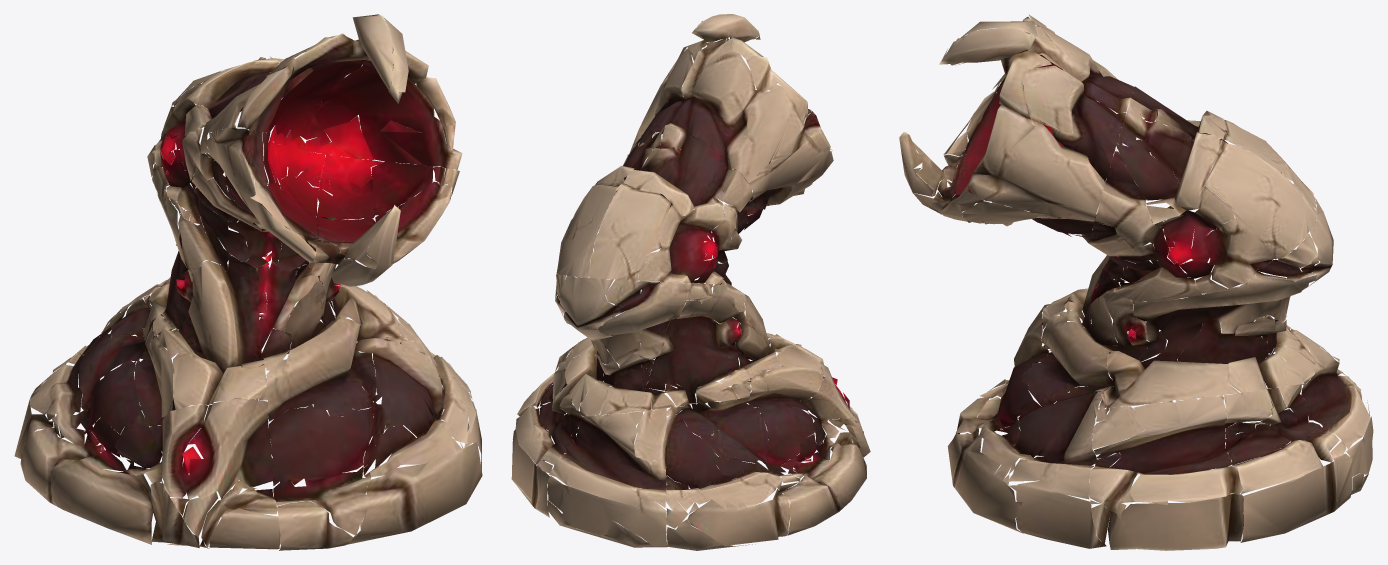
File: zeynep-6-tier-1.glb
The picture shows the model from 3 angles, left to right: view 1: azimuth 30°, elevation 25°; view 2: azimuth 150°, elevation 25°; view 3: azimuth 270°, elevation 25°; orthographic projection. The views are drawn at different scales.
Visible parts, largest first — view 1: moving-assembly, fixed-platform; view 2: moving-assembly, fixed-platform; view 3: moving-assembly, fixed-platform.
Boxes of the visible parts, box(x1,y1,x2,y2) form: moving-assembly: box(29, 14, 476, 499); fixed-platform: box(14, 357, 482, 550); moving-assembly: box(515, 14, 858, 510); fixed-platform: box(511, 370, 870, 550); moving-assembly: box(899, 14, 1370, 505); fixed-platform: box(947, 345, 1373, 550).
Bounding box in the file's own units: 0.6735 × 0.8301 × 0.7553.
2 materials, 2 textured.
